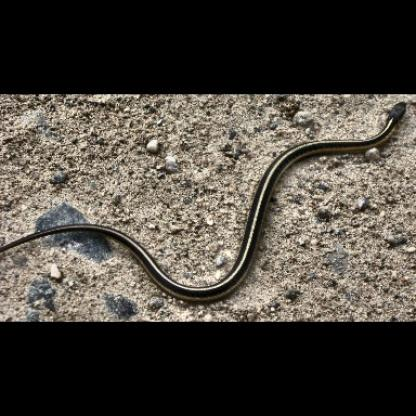Snake: (23, 101, 416, 302)
